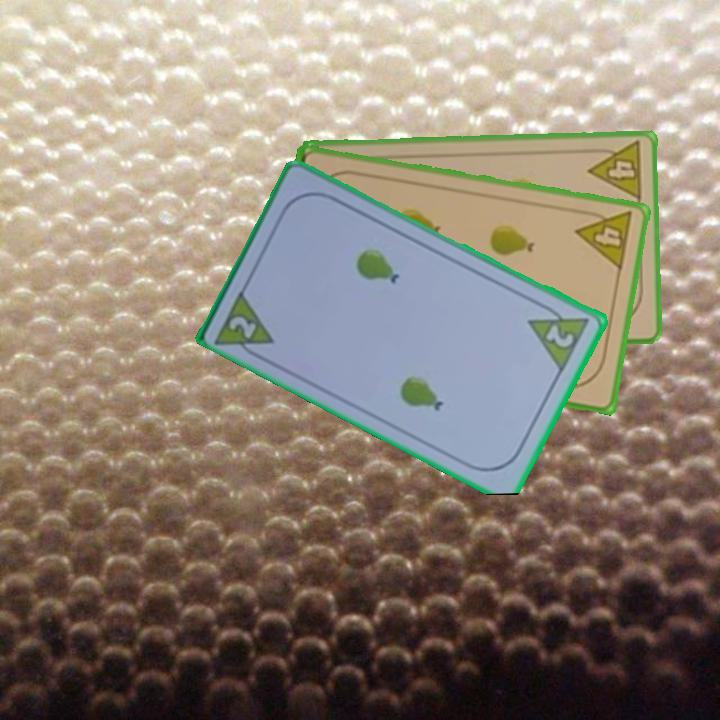2p: (525, 298, 593, 375), (225, 312, 261, 342)
4p: (572, 205, 635, 273), (585, 138, 645, 203)
